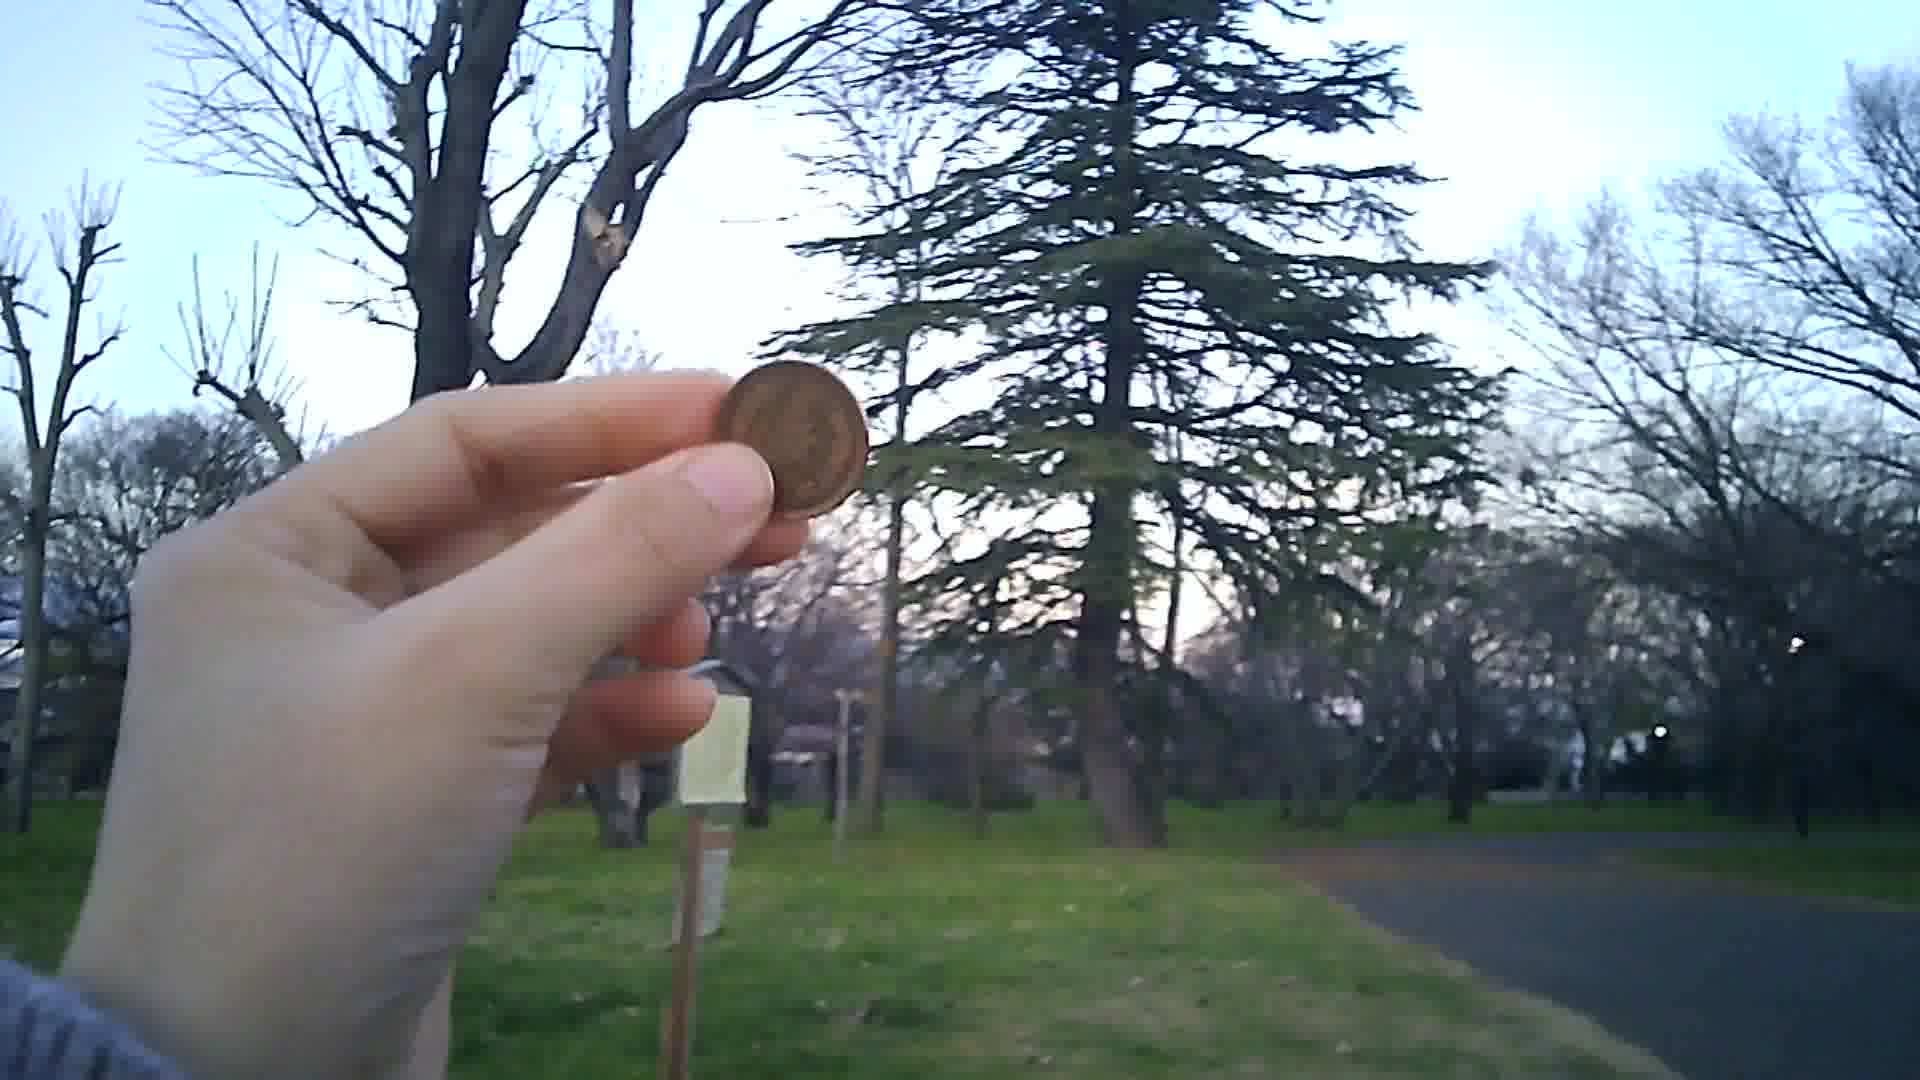10 Yen: (708, 360, 877, 524)
